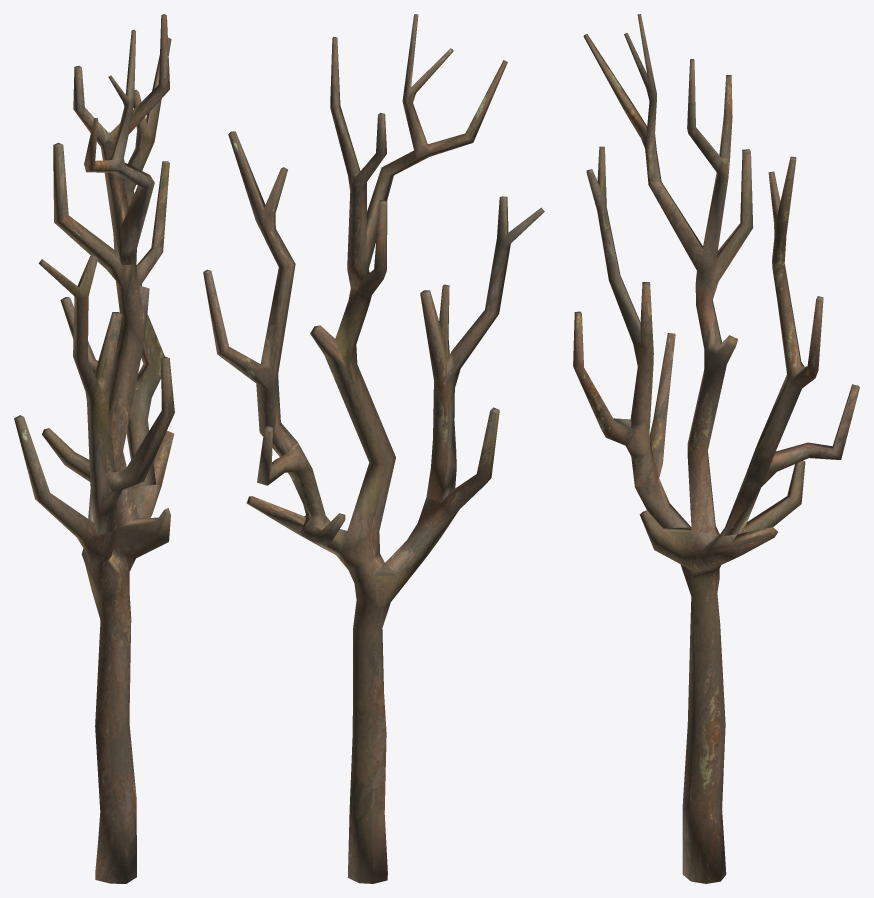
The picture shows the model from 3 angles, left to right: view 1: azimuth 30°, elevation 25°; view 2: azimuth 150°, elevation 25°; view 3: azimuth 270°, elevation 25°; orthographic projection. The views are drawn at different scales.
Parts seen in each view (by area): view 1: tree5; view 2: tree5; view 3: tree5.
Boxes of the visible parts, box(x1,y1,x2,y2) form: tree5: box(14, 14, 174, 883); tree5: box(203, 14, 544, 883); tree5: box(573, 14, 859, 883).
Bounding box in the file's own units: 349 × 1208 × 368.
Materials: 1 (1 with a texture image).
